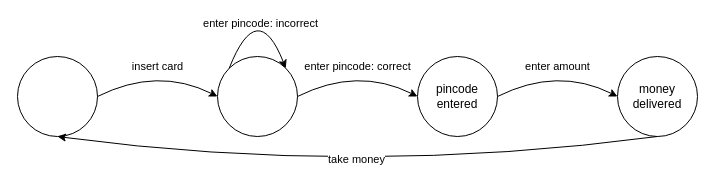
Some shapes in this 715 by 183 pixel diagram are drawn without their labels. Each missing label, with the box of its shape:
card inserted: (216, 56, 298, 136)
waiting for card: (16, 56, 98, 136)
